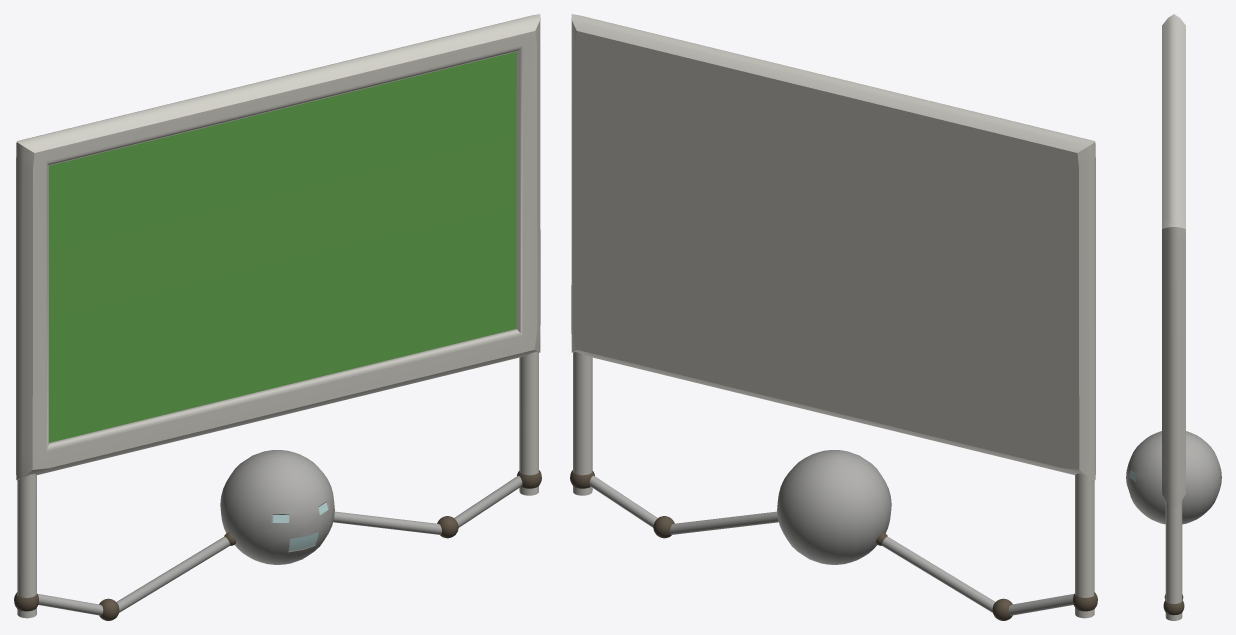
Rendered from FlyingBoard.fbx.
3 views of the same model, side by side, from view 1: azimuth 30°, elevation 25°; view 2: azimuth 150°, elevation 25°; view 3: azimuth 270°, elevation 25° (orthographic). The views are drawn at different scales.
Parts seen in each view (by area): view 1: board2; view 2: board2; view 3: board2.
Part boxes in pixels (x1,y1,x2,y2): board2: [14, 14, 541, 620]; board2: [570, 14, 1097, 620]; board2: [1126, 14, 1221, 620].
Bounding box in the file's own units: 10.52 × 9.58 × 2.
